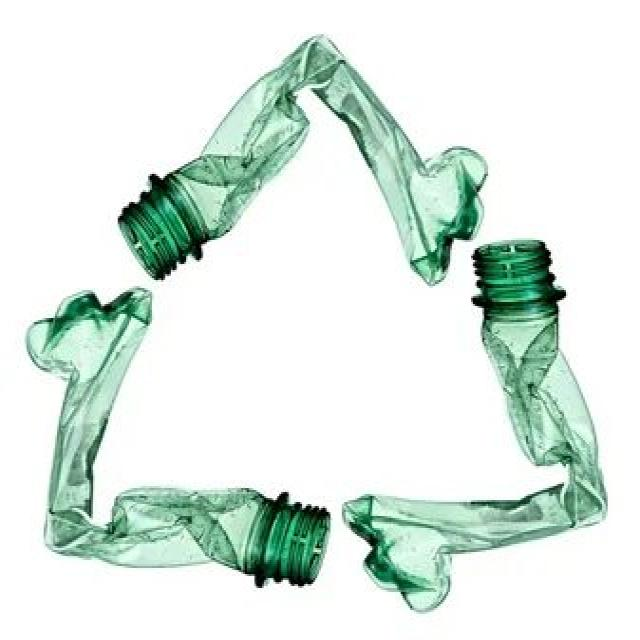green: (340, 238, 608, 612), (112, 30, 488, 283), (22, 288, 331, 588)
